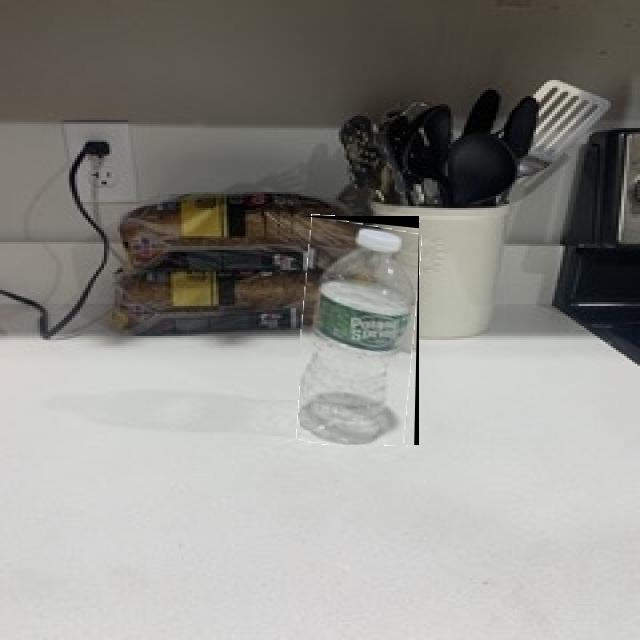water_bottle: (300, 216, 419, 445)
